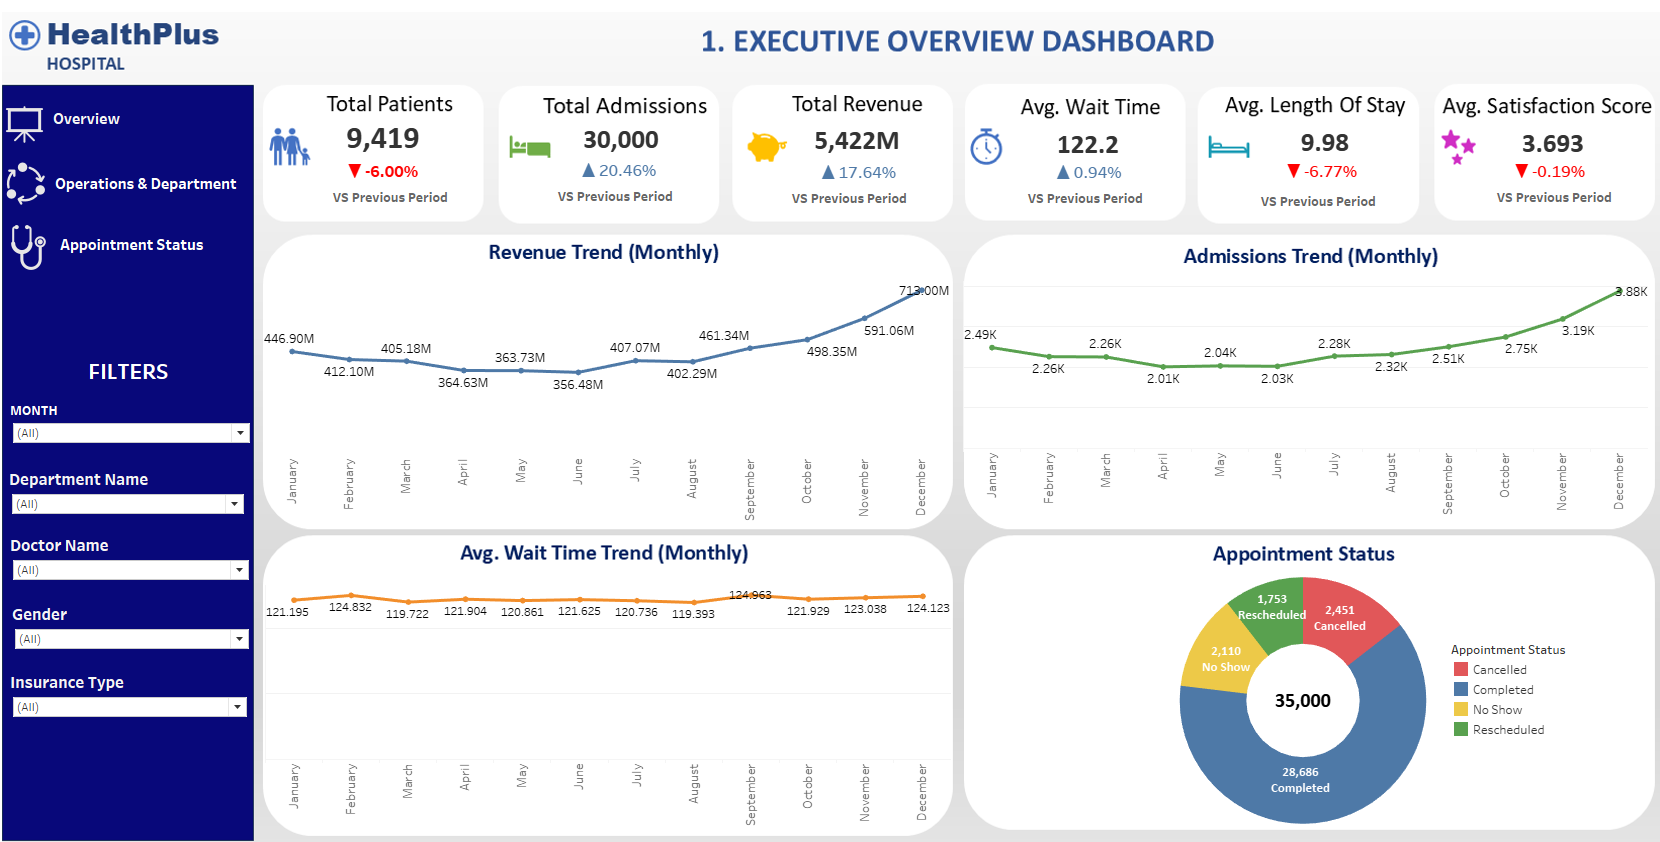

What the dashboard file says about the page in this screenshot:
{"tool":"tableau","page":{"name":"Executive Overview","canvas":[1709,856],"ordinal":0},"visuals":[{"type":"image","param":"Image/Presentation1.png","box":[8,8,1693,840]},{"type":"dashboard-object","box":[11,91,172,54]},{"type":"image","param":"Image/Picture1.svg","box":[6,101,57,47]},{"type":"worksheet","title":"Total Patients","mark":"Automatic","box":[328,110,129,55]},{"type":"worksheet","title":"Total Admissions","mark":"Automatic","box":[555,115,152,47]},{"type":"worksheet","title":"Avg Satisfaction Score","mark":"Automatic","box":[1473,116,180,87]},{"type":"worksheet","title":"Total Revenue","mark":"Automatic","box":[795,117,143,45]},{"type":"worksheet","title":"Avg Of Stay Days","mark":"Automatic","box":[1263,117,144,50]},{"type":"worksheet","title":"Avg Wait Time","mark":"Automatic","box":[1020,120,155,47]},{"type":"worksheet","title":"Patients Growth","mark":"Automatic","box":[337,146,111,50]},{"type":"worksheet","title":"Avg Wait Time Growth","mark":"Automatic","box":[1018,148,161,47]},{"type":"worksheet","title":"Total Admission Growth","mark":"Automatic","box":[579,149,99,42]},{"type":"worksheet","title":"Avg Satisfaction Score Grwot","mark":"Automatic","box":[1505,149,109,43]},{"type":"worksheet","title":"Revenue Growth","mark":"Automatic","box":[815,150,104,43]},{"type":"worksheet","title":"Avg Of Stay Growth","mark":"Automatic","box":[1285,153,93,35]},{"type":"dashboard-object","box":[39,155,234,56]},{"type":"text","box":[565,181,121,30]},{"type":"text","box":[340,182,121,30]},{"type":"text","box":[1504,182,121,30]},{"type":"text","box":[799,183,121,30]},{"type":"text","box":[1035,183,121,30]},{"type":"text","box":[1268,186,121,30]},{"type":"dashboard-object","box":[39,218,206,52]},{"type":"image","param":"Image/Picture3.svg","box":[5,223,67,49]},{"type":"worksheet","title":"Revenue Trend (Monthly)","mark":"Automatic","rows":["Revenue"],"cols":["Admission_Date"],"box":[273,280,687,254]},{"type":"worksheet","title":"Admission Trend (Monthly)","mark":"Automatic","rows":["Admission_ID"],"cols":["Admission_Date"],"box":[973,281,685,247]},{"type":"text","box":[13,356,251,30]},{"type":"filter","title":"Revenue Trend (Monthly)","param":"[federated.0m1gyx91rqx2dw12bt20d0494kdl].[mn:Admission_Date:ok]","box":[20,401,243,63]},{"type":"filter","title":"Total Patients","param":"[federated.0m1gyx91rqx2dw12bt20d0494kdl].[none:Department_Name:nk]","box":[19,468,238,141]},{"type":"filter","title":"Total Patients","param":"[federated.0m1gyx91rqx2dw12bt20d0494kdl].[none:Doctor_Name:nk]","box":[20,534,242,61]},{"type":"worksheet","title":"Appoitment Status Distribution","mark":"Pie","rows":["Calculation_112308524602679297","Calculation_112308524602679297"],"box":[975,572,676,257]},{"type":"worksheet","title":"Avg. Wait Time Trend","mark":"Automatic","rows":["Wait_Time_Minutes"],"cols":["Admission_Date"],"box":[275,585,686,254]},{"type":"filter","title":"Total Patients","param":"[federated.0m1gyx91rqx2dw12bt20d0494kdl].[none:Gender:nk]","box":[22,603,240,53]},{"type":"legend","title":"Appoitment Status Distribution","param":"[federated.0m1gyx91rqx2dw12bt20d0494kdl].[none:Appointment_Status:nk]","box":[1461,641,155,118]},{"type":"filter","title":"Total Patients","param":"[federated.0m1gyx91rqx2dw12bt20d0494kdl].[none:Insurance_Type:nk]","box":[20,671,240,64]}]}

Visuals, with their boxes in screenshot pixels (x1, y1, x2, y2), scaled from the page's 1709x856 canvas onto the 1660x842 screenshot:
image: pyautogui.locateOnScreen(8, 8, 1652, 834)
dashboard-object: pyautogui.locateOnScreen(11, 90, 178, 143)
image: pyautogui.locateOnScreen(6, 99, 61, 146)
"Total Patients" worksheet: pyautogui.locateOnScreen(319, 108, 444, 162)
"Total Admissions" worksheet: pyautogui.locateOnScreen(539, 113, 687, 159)
"Avg Satisfaction Score" worksheet: pyautogui.locateOnScreen(1431, 114, 1606, 200)
"Total Revenue" worksheet: pyautogui.locateOnScreen(772, 115, 911, 159)
"Avg Of Stay Days" worksheet: pyautogui.locateOnScreen(1227, 115, 1367, 164)
"Avg Wait Time" worksheet: pyautogui.locateOnScreen(991, 118, 1141, 164)
"Patients Growth" worksheet: pyautogui.locateOnScreen(327, 144, 435, 193)
"Avg Wait Time Growth" worksheet: pyautogui.locateOnScreen(989, 146, 1145, 192)
"Total Admission Growth" worksheet: pyautogui.locateOnScreen(562, 147, 659, 188)
"Avg Satisfaction Score Grwot" worksheet: pyautogui.locateOnScreen(1462, 147, 1568, 189)
"Revenue Growth" worksheet: pyautogui.locateOnScreen(792, 148, 893, 190)
"Avg Of Stay Growth" worksheet: pyautogui.locateOnScreen(1248, 150, 1338, 185)
dashboard-object: pyautogui.locateOnScreen(38, 152, 265, 208)
text: pyautogui.locateOnScreen(549, 178, 666, 208)
text: pyautogui.locateOnScreen(330, 179, 448, 209)
text: pyautogui.locateOnScreen(1461, 179, 1578, 209)
text: pyautogui.locateOnScreen(776, 180, 894, 210)
text: pyautogui.locateOnScreen(1005, 180, 1123, 210)
text: pyautogui.locateOnScreen(1232, 183, 1349, 212)
dashboard-object: pyautogui.locateOnScreen(38, 214, 238, 266)
image: pyautogui.locateOnScreen(5, 219, 70, 268)
"Revenue Trend (Monthly)" worksheet: pyautogui.locateOnScreen(265, 275, 932, 525)
"Admission Trend (Monthly)" worksheet: pyautogui.locateOnScreen(945, 276, 1610, 519)
text: pyautogui.locateOnScreen(13, 350, 256, 380)
"Revenue Trend (Monthly)" filter: pyautogui.locateOnScreen(19, 394, 255, 456)
"Total Patients" filter: pyautogui.locateOnScreen(18, 460, 250, 599)
"Total Patients" filter: pyautogui.locateOnScreen(19, 525, 254, 585)
"Appoitment Status Distribution" worksheet (Pie marks): pyautogui.locateOnScreen(947, 563, 1604, 815)
"Avg. Wait Time Trend" worksheet: pyautogui.locateOnScreen(267, 575, 933, 825)
"Total Patients" filter: pyautogui.locateOnScreen(21, 593, 254, 645)
"Appoitment Status Distribution" legend: pyautogui.locateOnScreen(1419, 631, 1570, 747)
"Total Patients" filter: pyautogui.locateOnScreen(19, 660, 253, 723)
